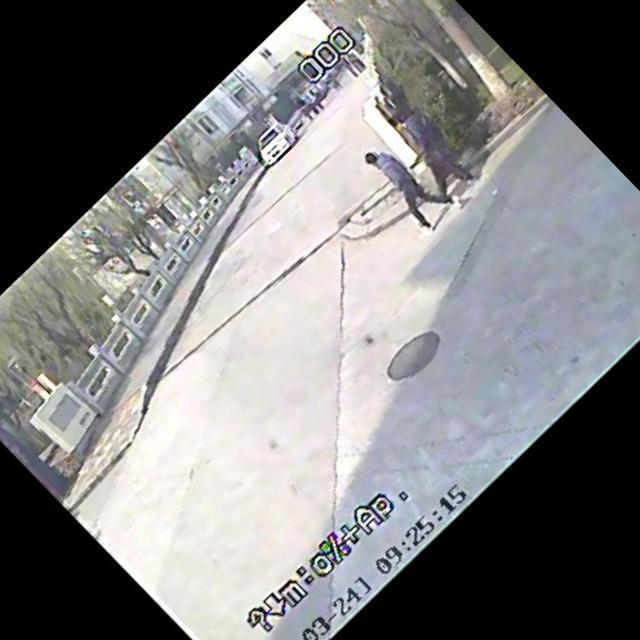person: (373, 90, 497, 216), (349, 124, 470, 246)
